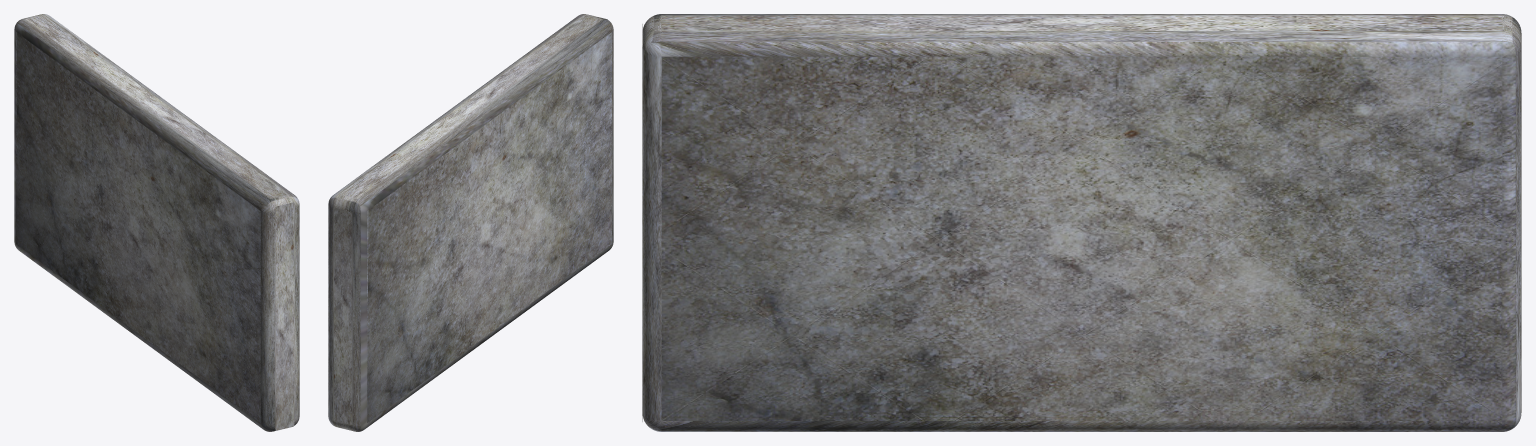
File: Door.fbx
3 renders of one model, left to right at view 1: azimuth 30°, elevation 25°; view 2: azimuth 150°, elevation 25°; view 3: azimuth 270°, elevation 25°, orthographic. The views are drawn at different scales.
Parts seen in each view (by area): view 1: pCube1; view 2: pCube1; view 3: pCube1.
Part boxes in pixels (box(x1,y1,x2,y2)): pCube1: box(14, 14, 299, 431); pCube1: box(328, 14, 613, 431); pCube1: box(642, 14, 1521, 431).
Bounding box in the file's own units: 1.18 × 6.98 × 13.93.
Materials: 1 (1 with a texture image).
